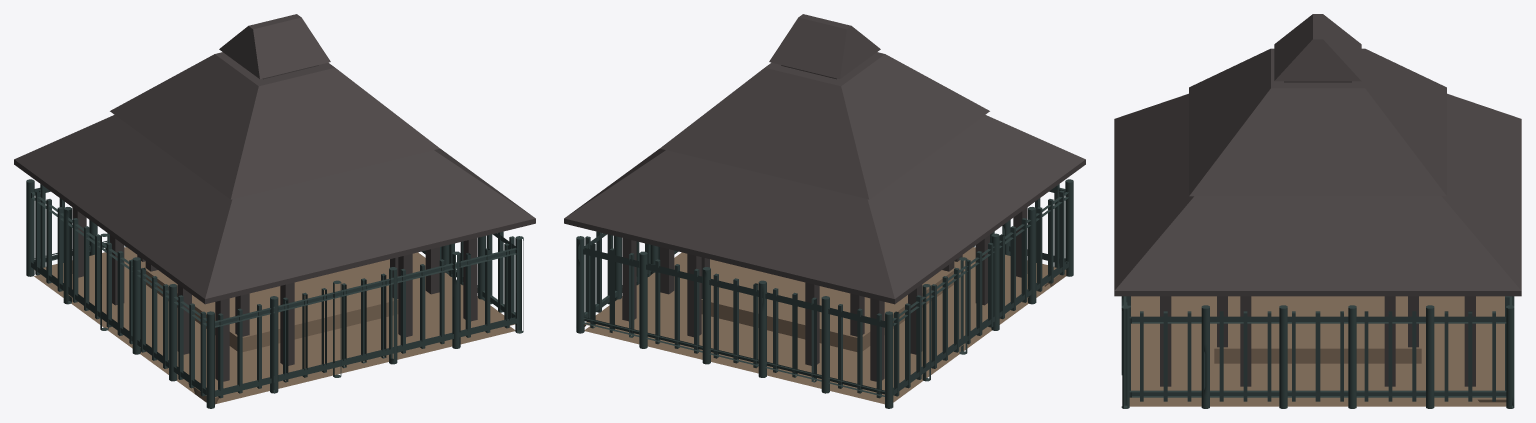
Rendered from B_Kemagangan.fbx.
3 views of the same model, side by side, from view 1: azimuth 30°, elevation 25°; view 2: azimuth 150°, elevation 25°; view 3: azimuth 270°, elevation 25° (orthographic). The views are drawn at different scales.
Visible parts, largest first — view 1: B_Kemagangan; view 2: B_Kemagangan; view 3: B_Kemagangan.
Boxes of the visible parts, x1,y1,x2,y2 form: B_Kemagangan: [14, 14, 535, 408]; B_Kemagangan: [564, 14, 1085, 408]; B_Kemagangan: [1114, 14, 1521, 408].
Size of the model in its own units: 368 by 300 by 368.
1 material, 1 textured.
